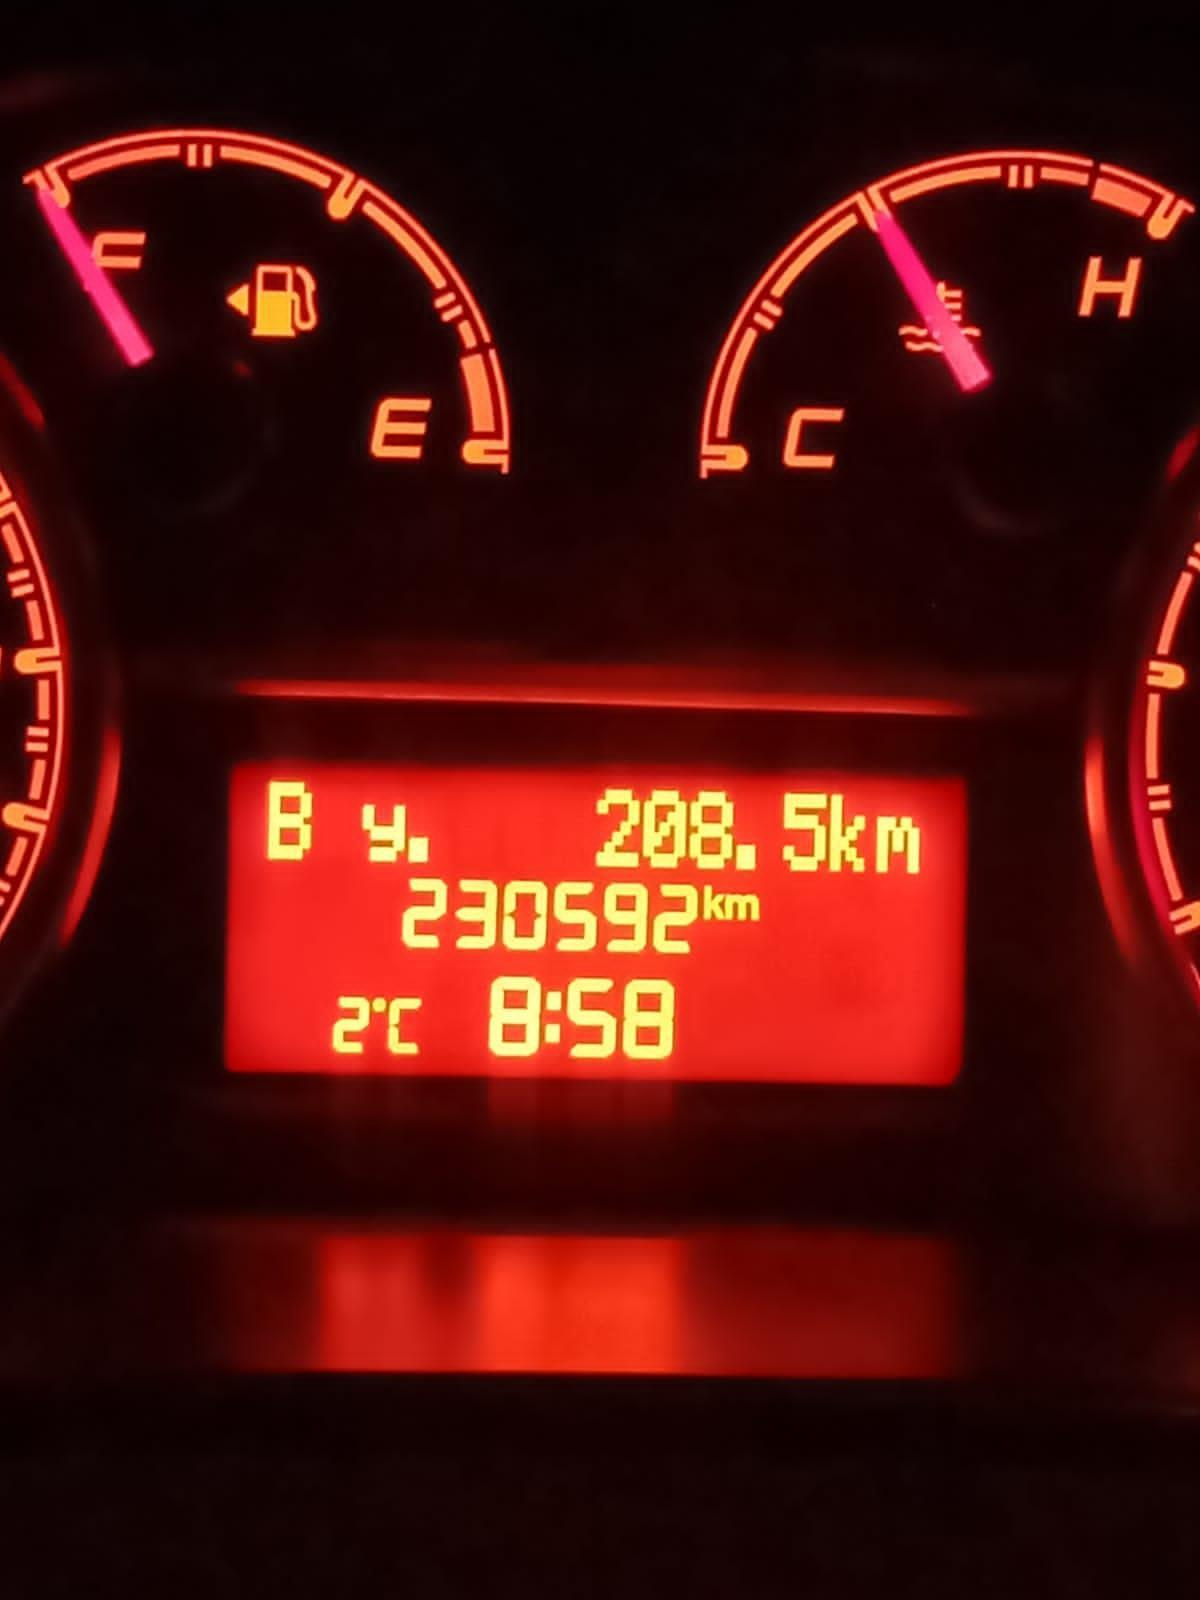,: (405, 833, 432, 864), (734, 842, 758, 872)
0: (640, 786, 689, 871), (500, 878, 550, 954)
2: (592, 786, 642, 869), (398, 876, 449, 951), (650, 881, 700, 955), (329, 994, 372, 1054)
3: (453, 877, 499, 952)
5: (565, 975, 619, 1062), (780, 790, 828, 876), (552, 879, 599, 955)
8: (487, 974, 543, 1060), (620, 976, 678, 1060), (688, 787, 735, 871)
9: (600, 879, 650, 955)
X: (262, 776, 316, 867), (829, 792, 868, 876), (874, 814, 924, 876), (358, 800, 406, 864), (386, 994, 426, 1058), (543, 988, 566, 1048), (725, 891, 761, 923), (701, 882, 725, 923)
odometer: (205, 743, 981, 1104)
